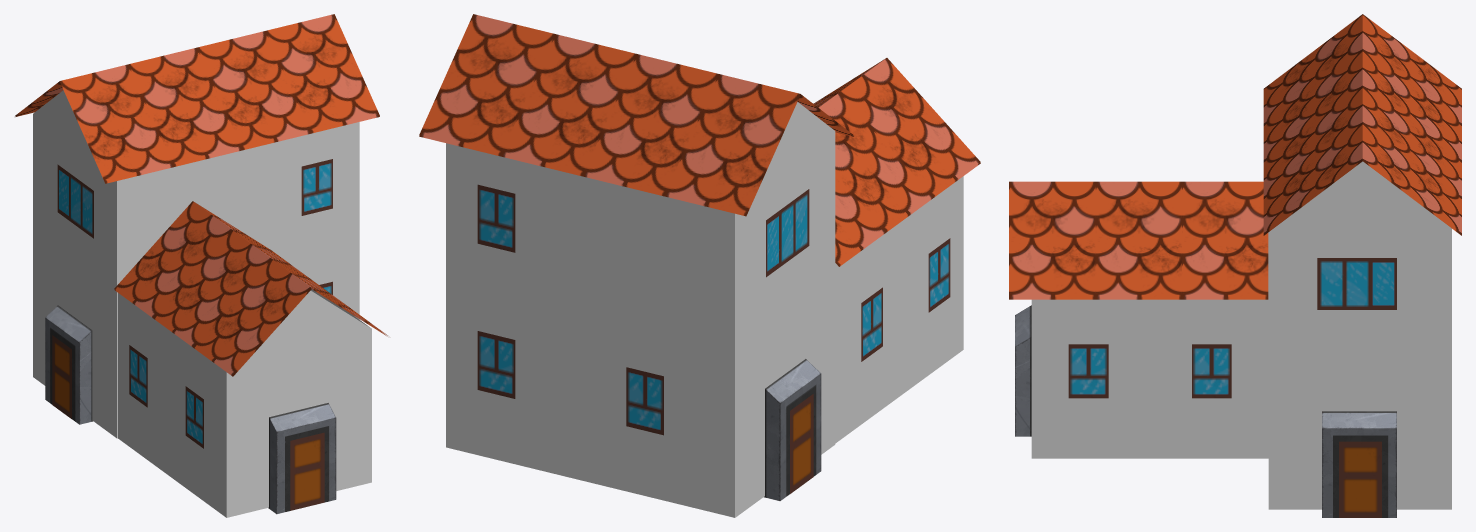
The model's file is home4.fbx.
3 views of the same model, side by side, from view 1: azimuth 30°, elevation 25°; view 2: azimuth 150°, elevation 25°; view 3: azimuth 270°, elevation 25° (orthographic). The views are drawn at different scales.
Parts seen in each view (by area): view 1: Cube.015; view 2: Cube.015; view 3: Cube.015.
Boxes of the visible parts, bbox=[...] form: Cube.015: bbox=[15, 14, 387, 517]; Cube.015: bbox=[419, 14, 980, 517]; Cube.015: bbox=[1009, 14, 1461, 517].
Size of the model in its own units: 235 by 270 by 308.
